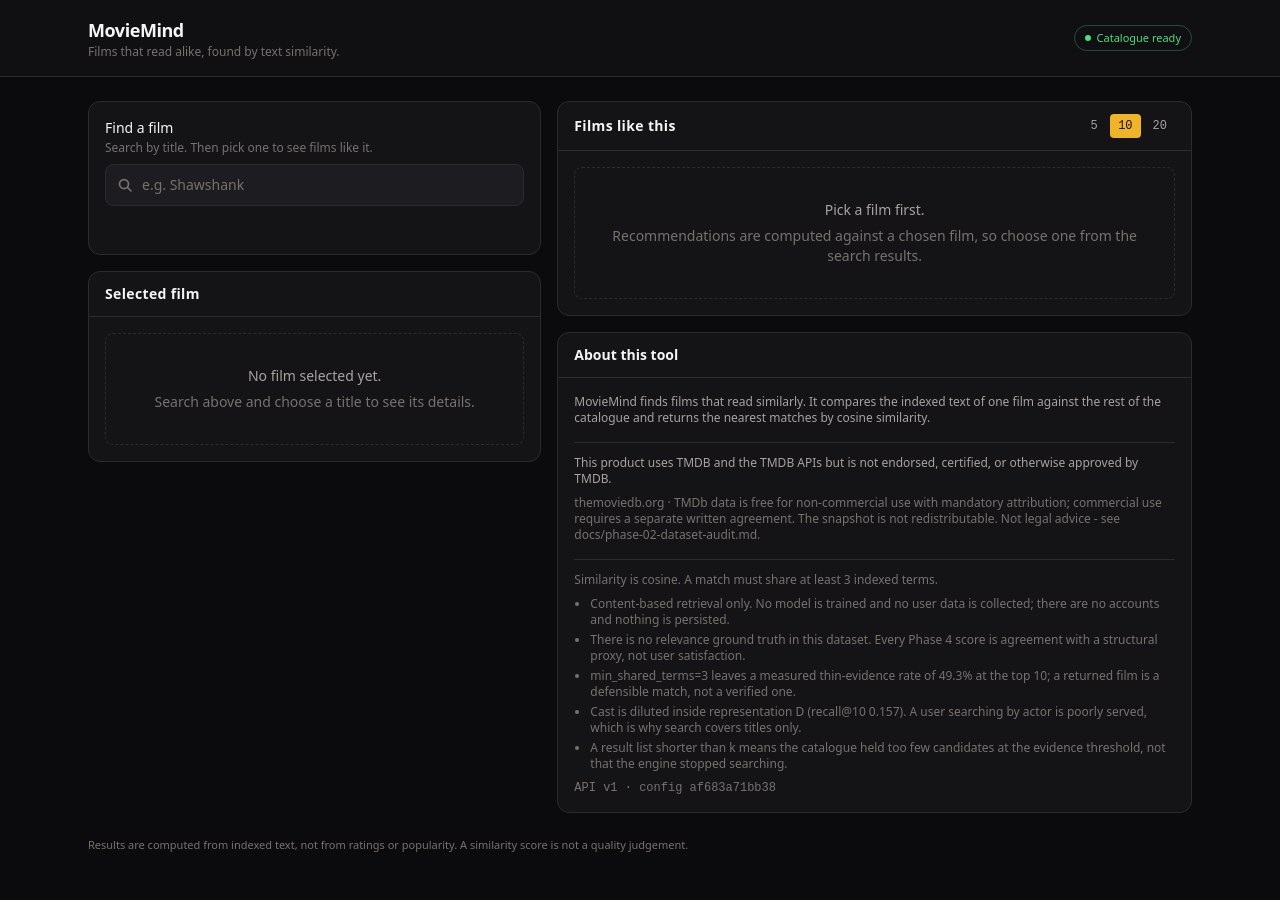
Test: search › prompts for more characters below the minimum length
Step 1. Type "s" into the dropdown labelled "Find a film" → (315, 185), box [105,164,524,206]
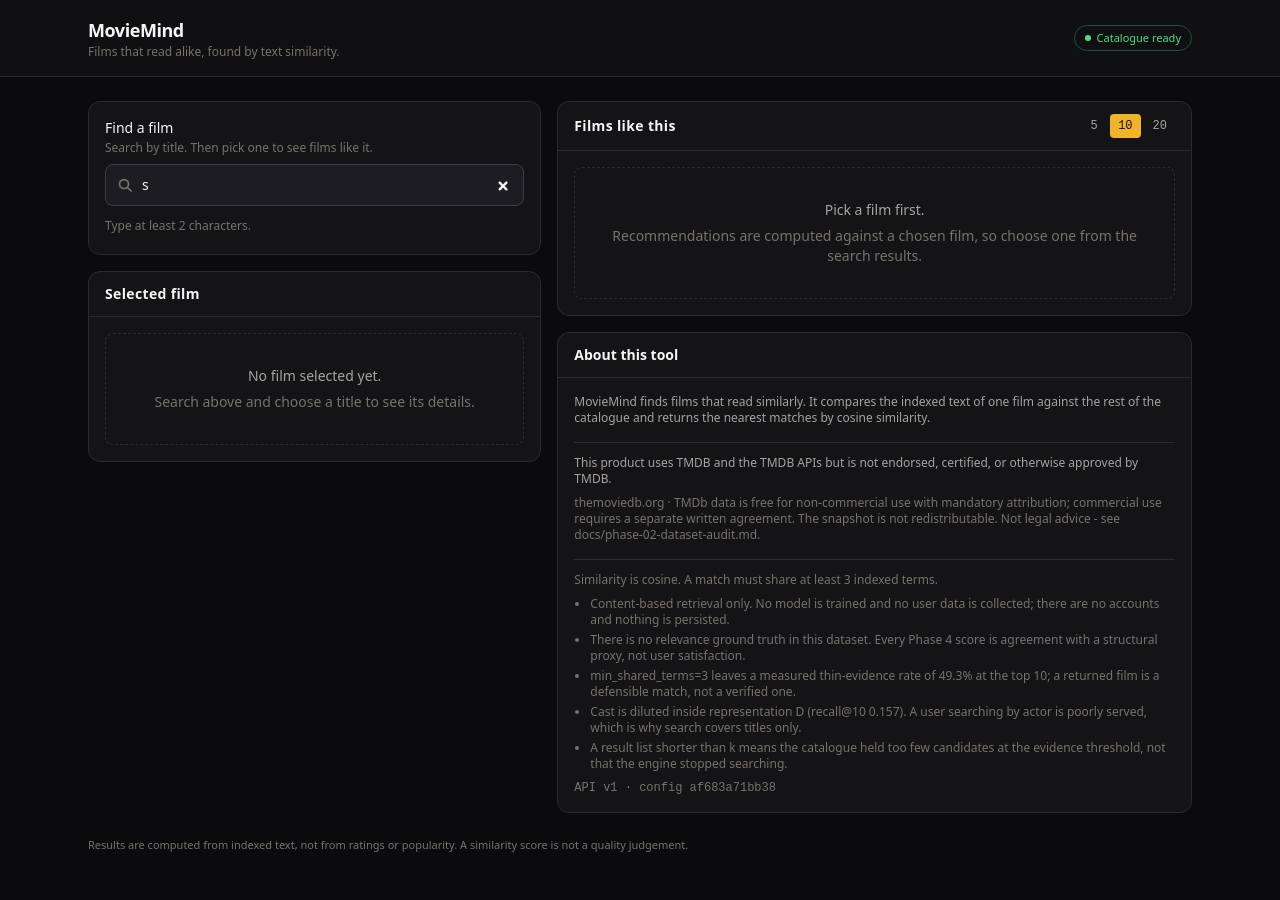
Now the message with test id "live-status" shows "at least 2 characters", box [105,217,251,234]
